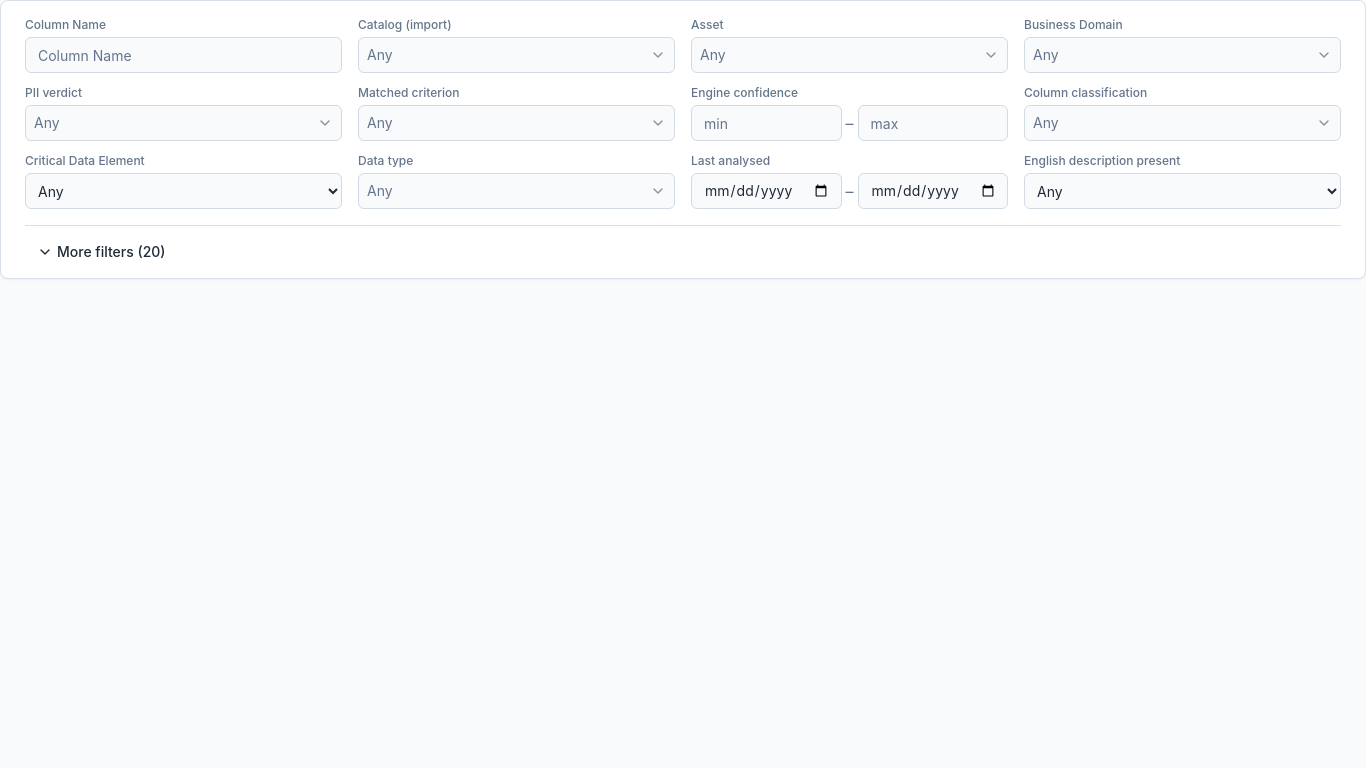
Test case: <FilterPanel /> — attribute filters › brings a gated filter back the moment its feature has data
This screenshot has width=1366, height=768.
Click the button "More filters (20)".
click(101, 252)  # box [25,234,178,270]
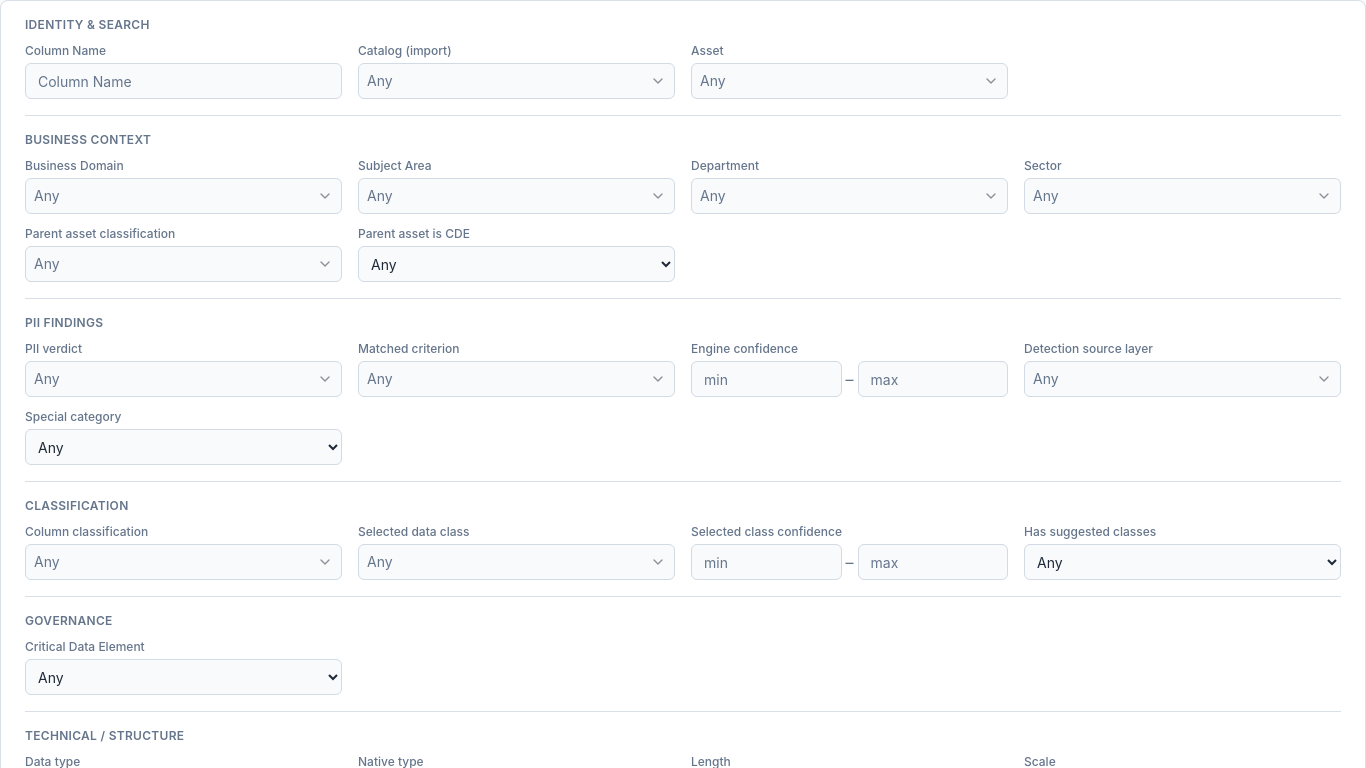
Now the text "Special category" is shown, box [25,409,122,424]
